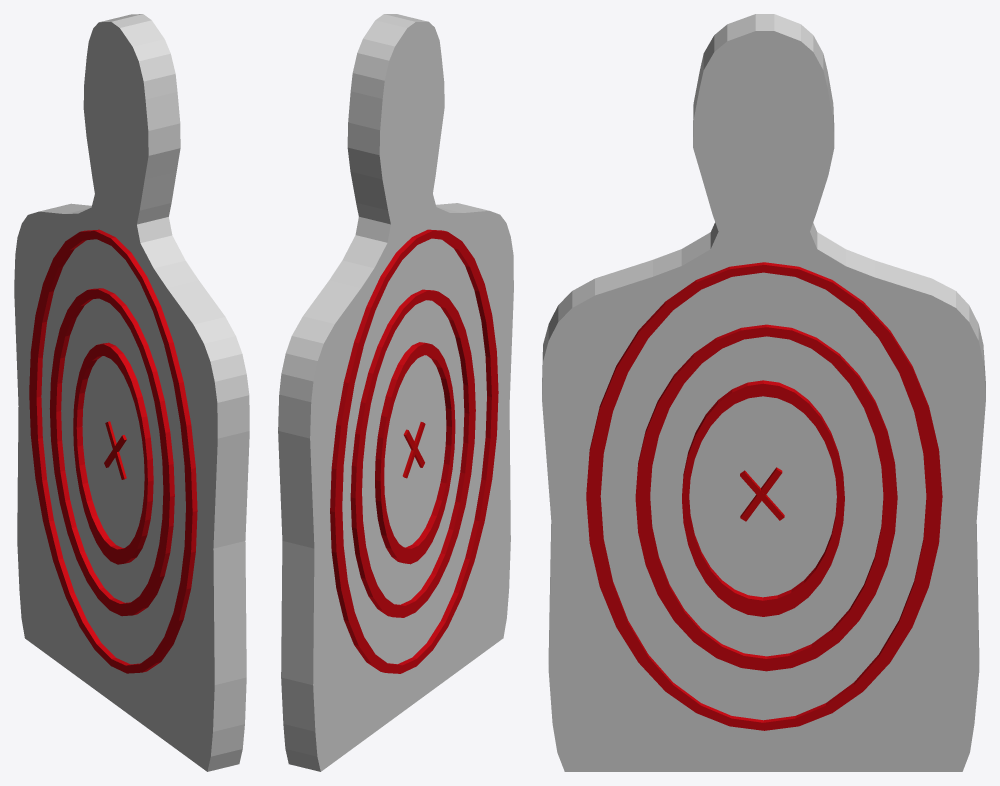
Rendered from Target.fbx.
3 views of the same model, side by side, from view 1: azimuth 30°, elevation 25°; view 2: azimuth 150°, elevation 25°; view 3: azimuth 270°, elevation 25° (orthographic). The views are drawn at different scales.
Parts seen in each view (by area): view 1: Cube, Cylinder, Cube.001; view 2: Cube, Cylinder, Cube.001; view 3: Cube, Cylinder, Cube.001.
Part boxes in pixels (x1,y1,x2,y2): Cube: [14, 14, 249, 771]; Cylinder: [29, 229, 197, 673]; Cube.001: [104, 421, 126, 479]; Cube: [278, 14, 513, 771]; Cylinder: [330, 229, 498, 673]; Cube.001: [402, 422, 425, 478]; Cube: [542, 14, 985, 771]; Cylinder: [586, 262, 942, 730]; Cube.001: [740, 467, 784, 521].
Size of the model in its own units: 119 by 1759 by 955.
